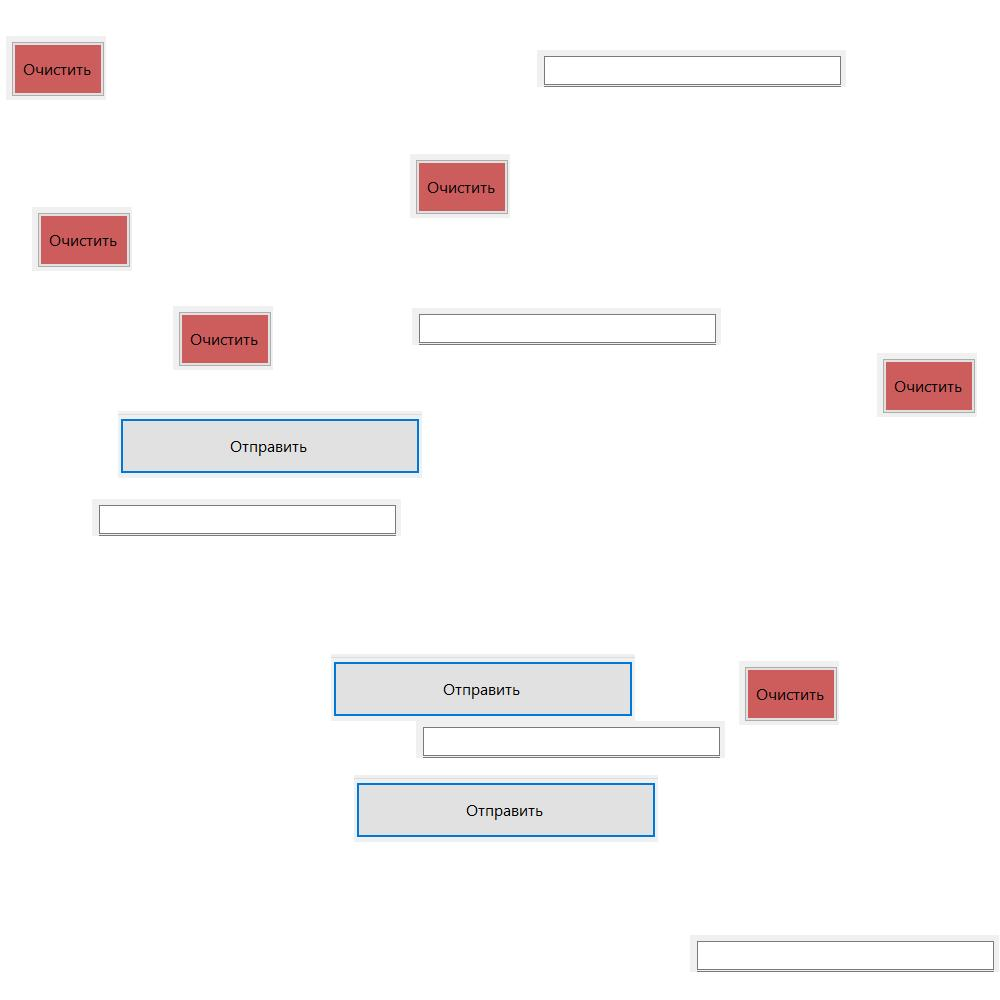Button: (118, 411, 422, 478), (331, 654, 635, 721), (354, 775, 658, 842), (173, 306, 273, 370), (6, 36, 106, 100), (877, 353, 977, 417), (410, 154, 510, 218), (739, 661, 839, 725), (32, 207, 132, 271)
EditText-: (412, 308, 721, 345), (416, 721, 725, 758), (690, 935, 999, 972), (92, 499, 401, 536), (537, 50, 846, 87)
